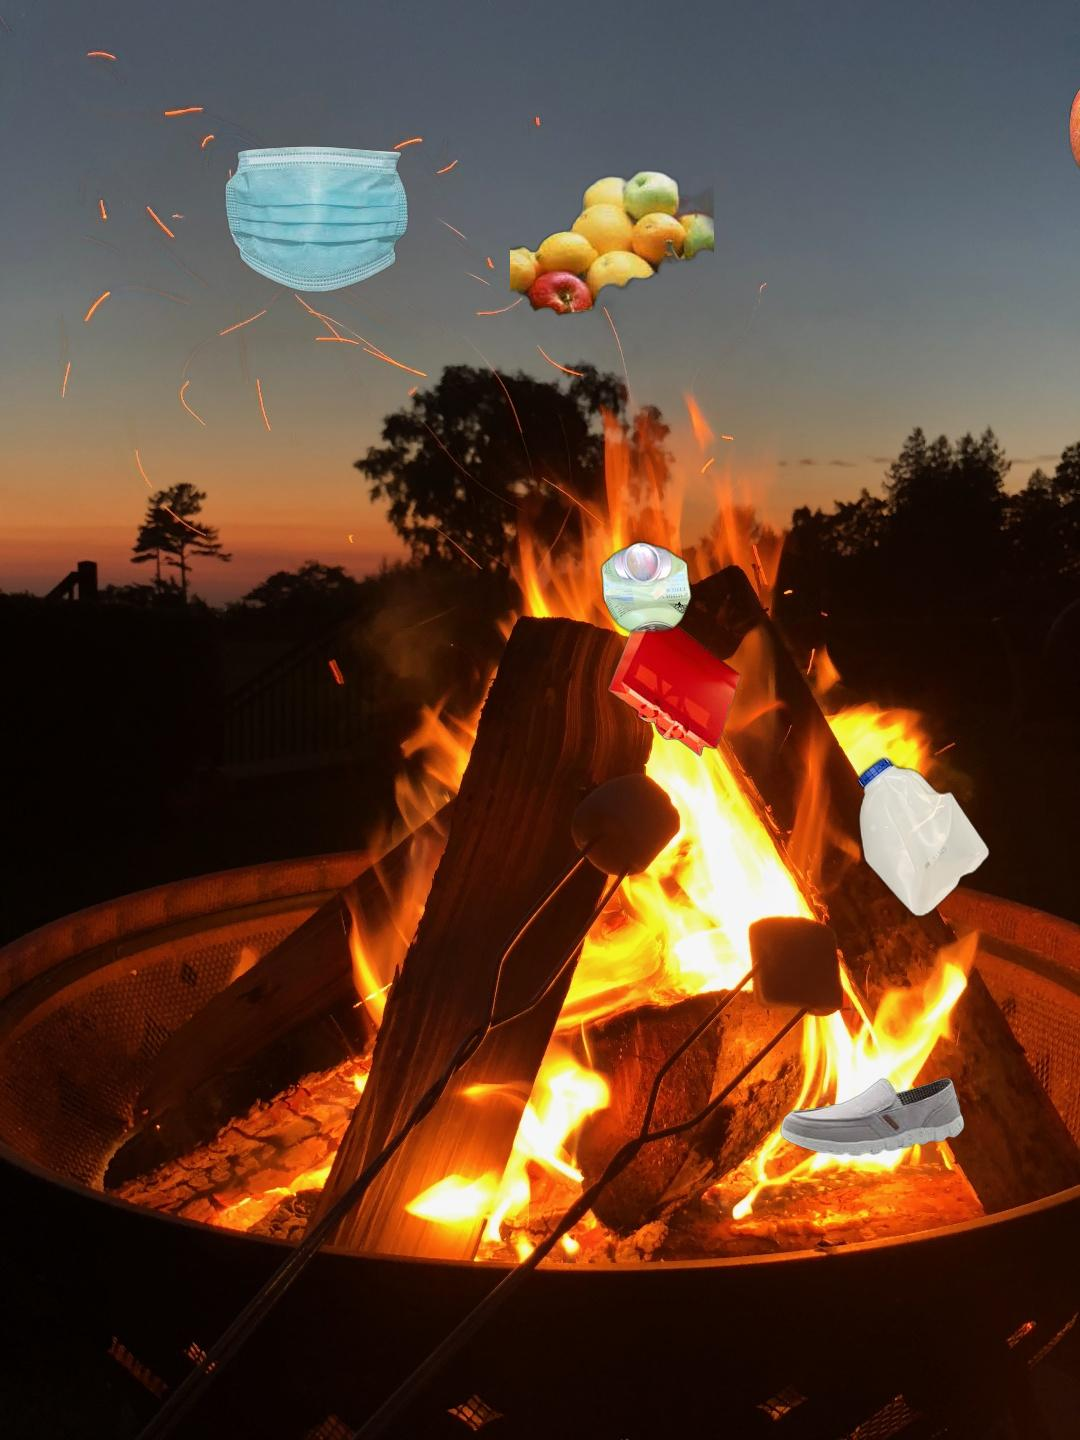biological: (511, 170, 714, 417), (1066, 52, 1080, 200)
metal-cans: (597, 537, 697, 638)
paper-bag: (508, 605, 743, 759)
plastic-bottles: (854, 751, 994, 923)
shoes: (778, 1075, 967, 1158)
trash: (222, 144, 411, 294)
trashbox-cardboard: (469, 1354, 1080, 1440)
